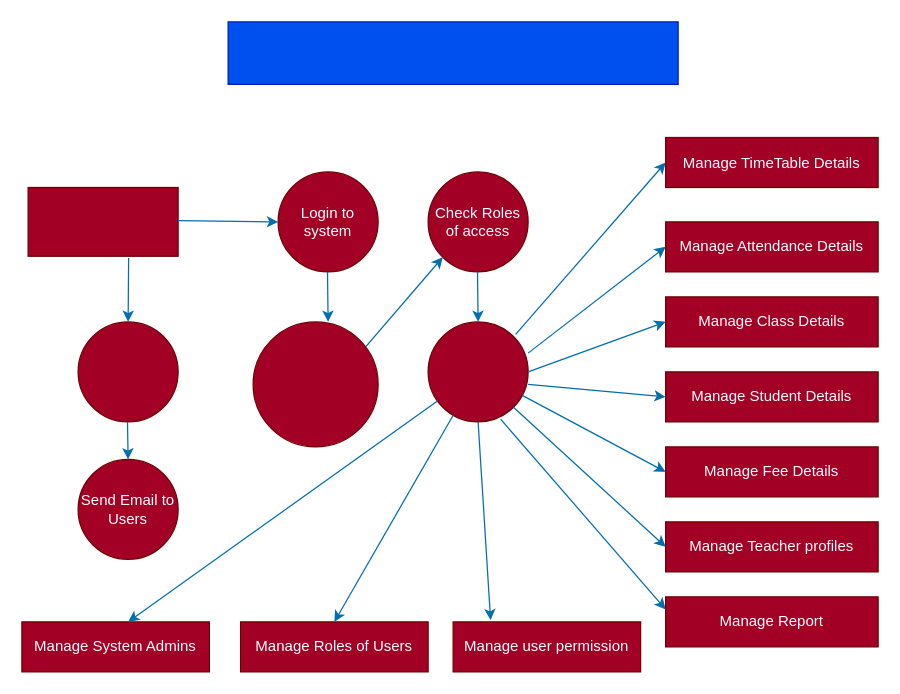
This 900x694 diagram has some shape labels left out. Each missing label, with the centre of its shape:
"Admin" goes at (x=102, y=221).
"Check Credentials" goes at (x=315, y=384).
"Forgot Password" goes at (x=127, y=371).
"Manage Modules" goes at (x=477, y=371).
"Student Information System" goes at (x=452, y=52).
